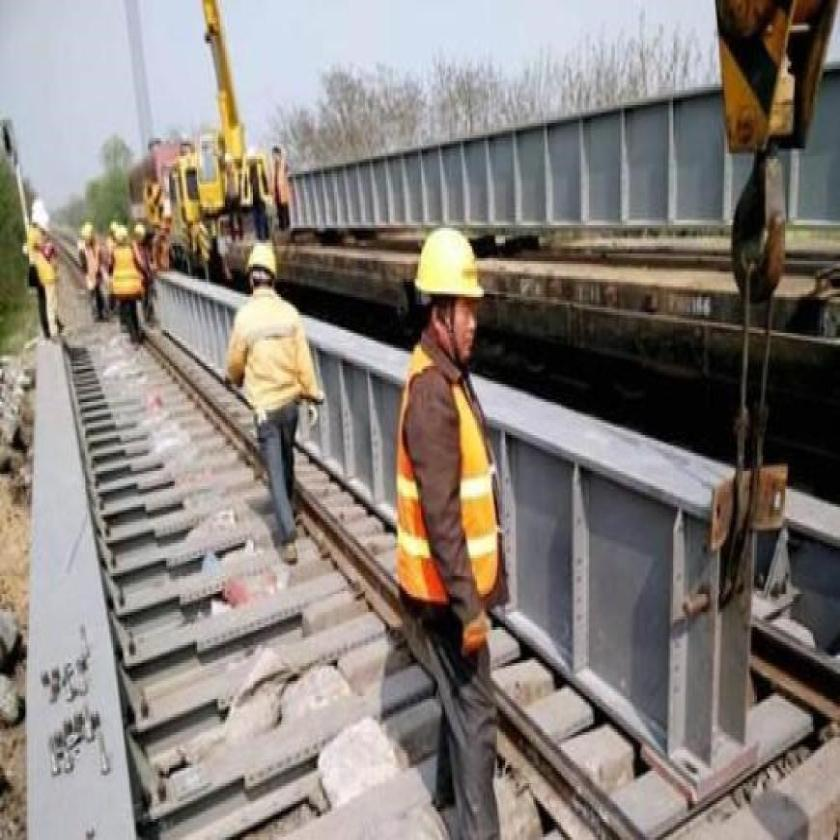Con_casco: (412, 227, 487, 375), (245, 242, 280, 300)
